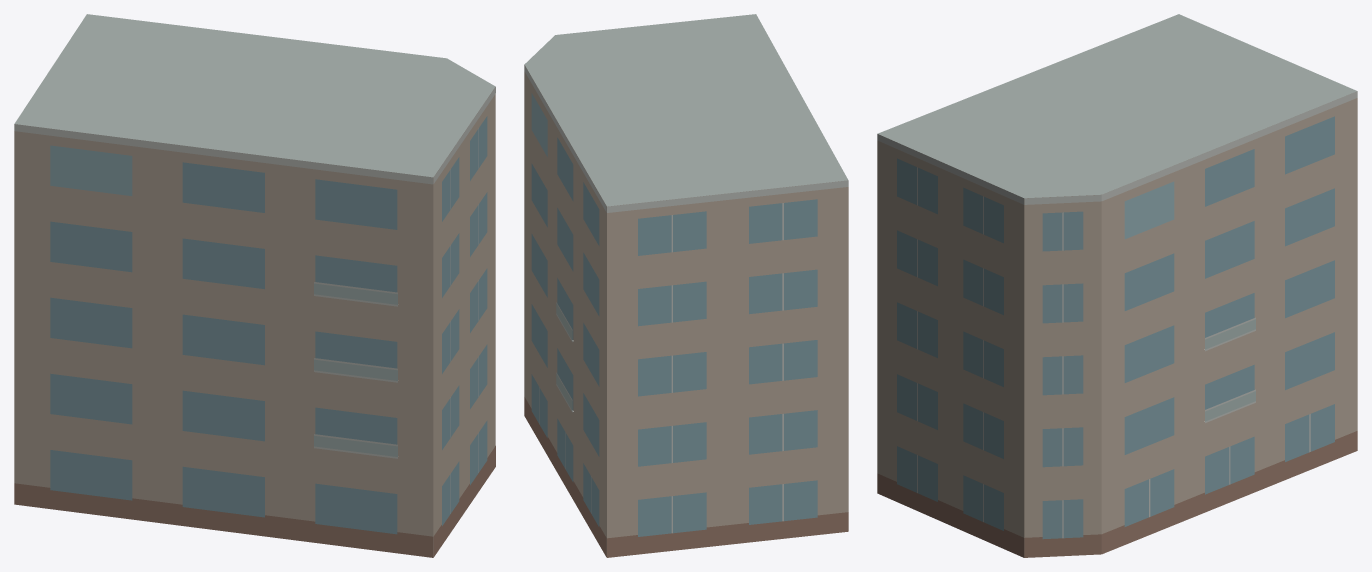
File: survey-upis-32888200.glb
3 views of the same model, side by side, from view 1: azimuth 30°, elevation 25°; view 2: azimuth 150°, elevation 25°; view 3: azimuth 270°, elevation 25° (orthographic). The views are drawn at different scales.
Parts seen in each view (by area): view 1: survey-upis-32888200.tmp; view 2: survey-upis-32888200.tmp; view 3: survey-upis-32888200.tmp.
Part boxes in pixels (x1,y1,x2,y2): survey-upis-32888200.tmp: (14, 14, 495, 557); survey-upis-32888200.tmp: (524, 14, 848, 557); survey-upis-32888200.tmp: (877, 14, 1357, 557).
Bounding box in the file's own units: 14.4 × 13.1 × 15.86.
